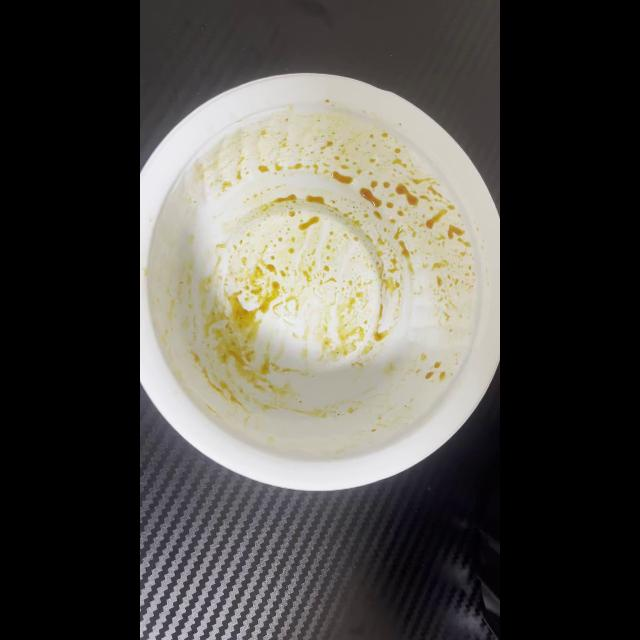dirty: (150, 106, 480, 432)
